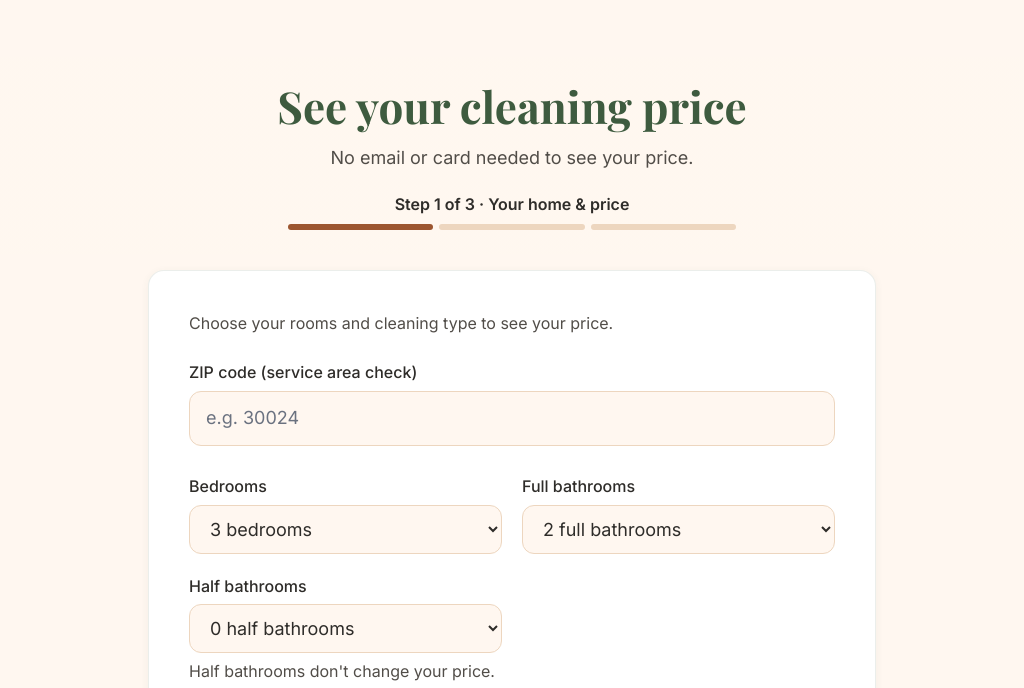
Test case: booking price confirmation › shows reduced prices in owner test mode (verified tp token)
This screenshot has width=1024, height=688.
Type "30024" into the field labelled "ZIP code (service area check)".
click(512, 418); type("30024")  # box x1=189 y1=391 x2=835 y2=446
(page scrolled)
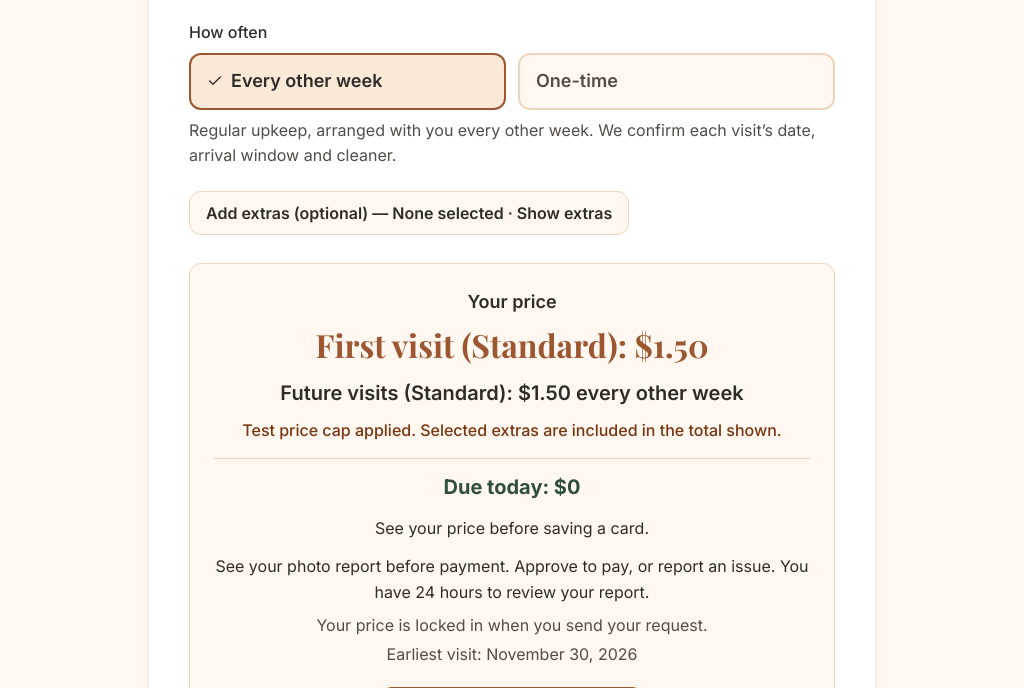
Check: the text "First visit (Standard): $1.50" is shown, box x1=316 y1=325 x2=709 y2=365
